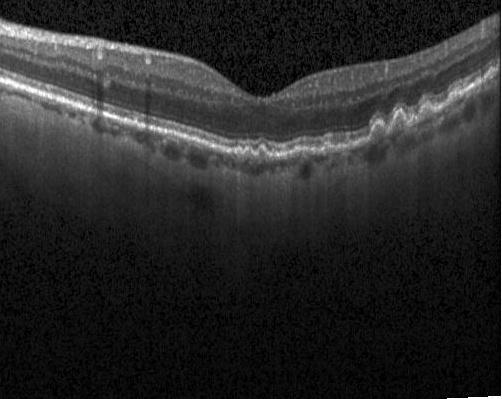retinal_drusen: (392, 112, 408, 133), (369, 124, 387, 142), (418, 106, 433, 122), (447, 92, 464, 106), (290, 148, 311, 158), (486, 69, 497, 82), (244, 149, 254, 158), (324, 143, 334, 152), (258, 148, 266, 159), (236, 148, 241, 155)
